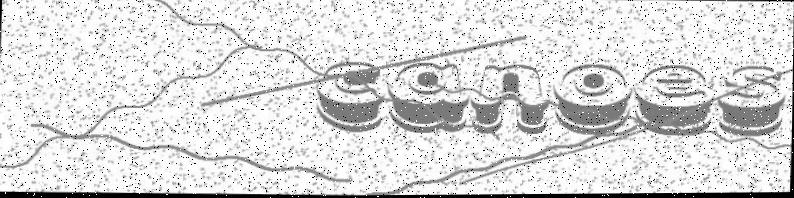a: (386, 59, 471, 135)
c: (314, 58, 385, 135)
e: (632, 63, 715, 138)
n: (469, 63, 550, 137)
o: (550, 63, 633, 137)
s: (716, 65, 786, 138)
